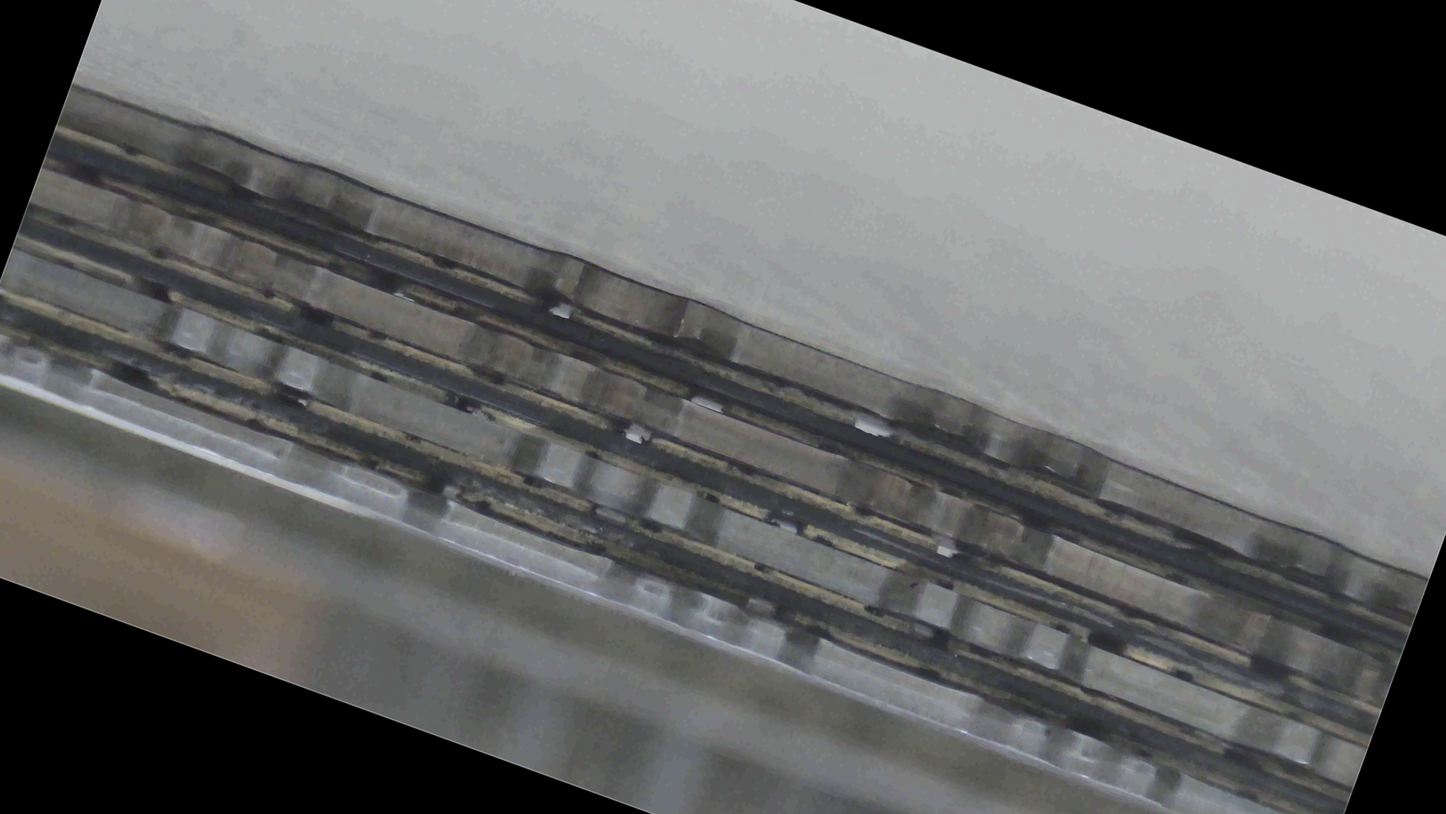Black metal plate: (58, 84, 1424, 618)
shiney metal plate: (0, 174, 1445, 231), (4, 264, 1445, 318), (17, 353, 1445, 403)
spacer: (0, 213, 1442, 271), (0, 407, 1445, 439), (0, 319, 1445, 350)
